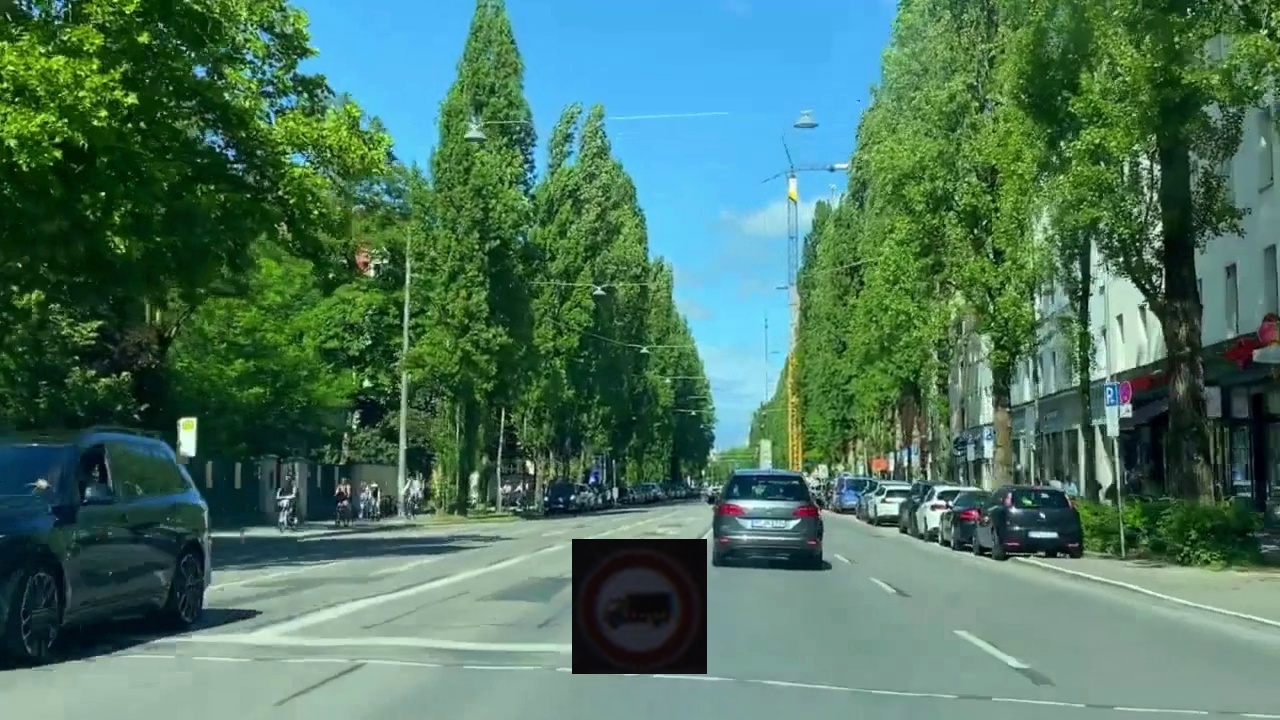Veh >3.5t prohib: (572, 539, 707, 674)
